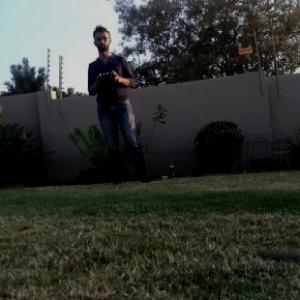follow: (85, 20, 159, 188)
